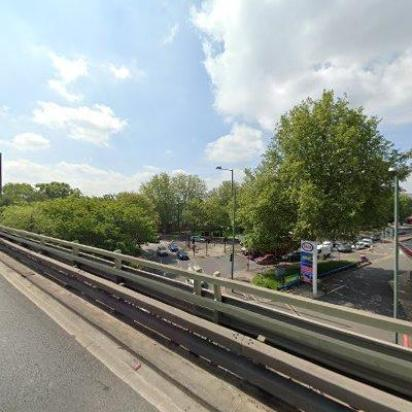moving-car: (254, 252, 279, 266), (280, 250, 302, 262), (336, 242, 352, 254), (176, 249, 190, 261), (155, 245, 169, 256), (168, 242, 180, 254), (191, 234, 205, 242)
moving-light-truck: (314, 243, 332, 258), (359, 237, 373, 248)
